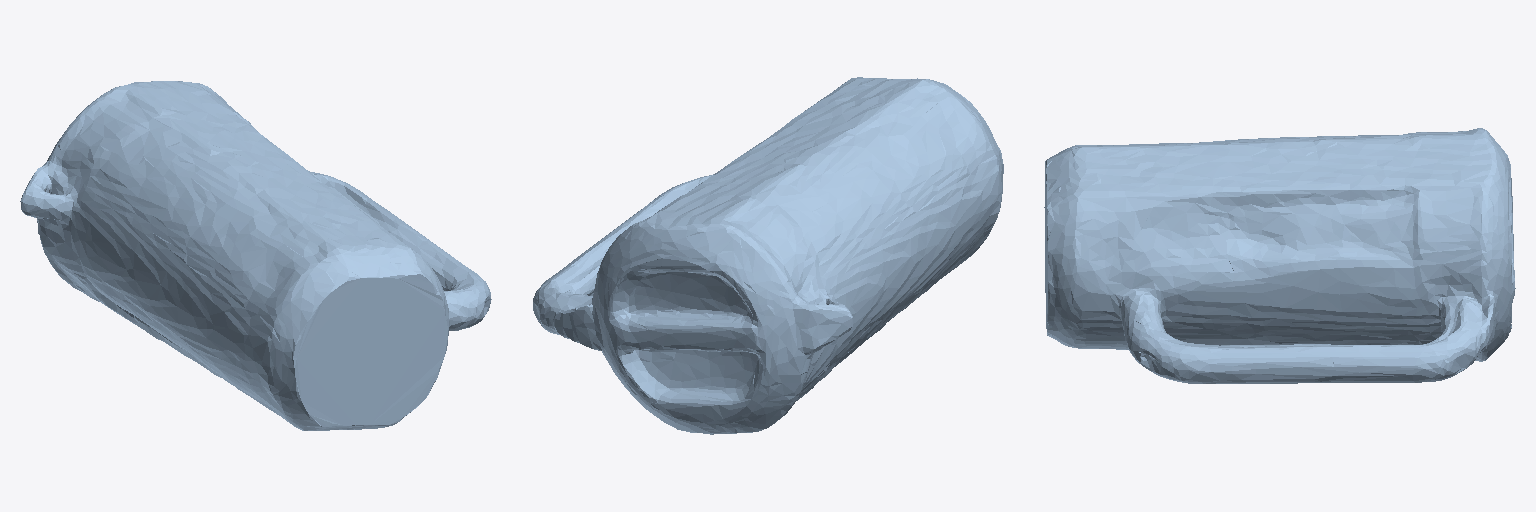
URDF robot description (KettleBlack.urdf):
<?xml version="1.0" ?>
<robot name="KettleBlack.urdf">
  <dynamics damping="0.5" friction="0.9"/>
  <link name="baseLink">
    <contact>
      <lateral_friction value="0.9"/>
      <rolling_friction value="0.5"/>
      <stiffness value="30000"/>
      <damping value="1000"/>
    </contact>
    <visual>
      <origin rpy="0 0 0" xyz="0 0 0"/>
      <geometry>
        <mesh filename="objects/KettleBlack/KettleBlack.obj" scale="1.0 1.0 1.0"/>
      </geometry>
      <material name="mat">
        <color rgba="0.7 0.8 0.9 1"/>
      </material>
    </visual>
    <collision>
      <origin rpy="0 0 0" xyz="0 0 0"/>
      <geometry>
        <mesh filename="objects/KettleBlack/KettleBlack.obj" scale="1.0 1.0 1.0"/>
      </geometry>
    </collision>
  </link>
</robot>

--- Facts derived from the render (not from the file) ---
The picture shows the robot from 3 angles, left to right: view 1: azimuth 30°, elevation 25°; view 2: azimuth 150°, elevation 25°; view 3: azimuth 270°, elevation 25°; orthographic projection.
Robot: KettleBlack.urdf — 1 links, 0 joints (none); root link baseLink; default pose: every joint at zero.
Links seen in each view (by area): view 1: baseLink; view 2: baseLink; view 3: baseLink.
Link boxes in pixels (left/top/right/bottom): baseLink: left=20, top=81, right=491, bottom=430; baseLink: left=533, top=77, right=1003, bottom=434; baseLink: left=1044, top=128, right=1515, bottom=383.
Bounding box of the posed robot: 0.2116 × 0.2709 × 0.1311 m (x, y, z).
1 mesh visuals loaded from 1 distinct referenced files (1 OBJ).
